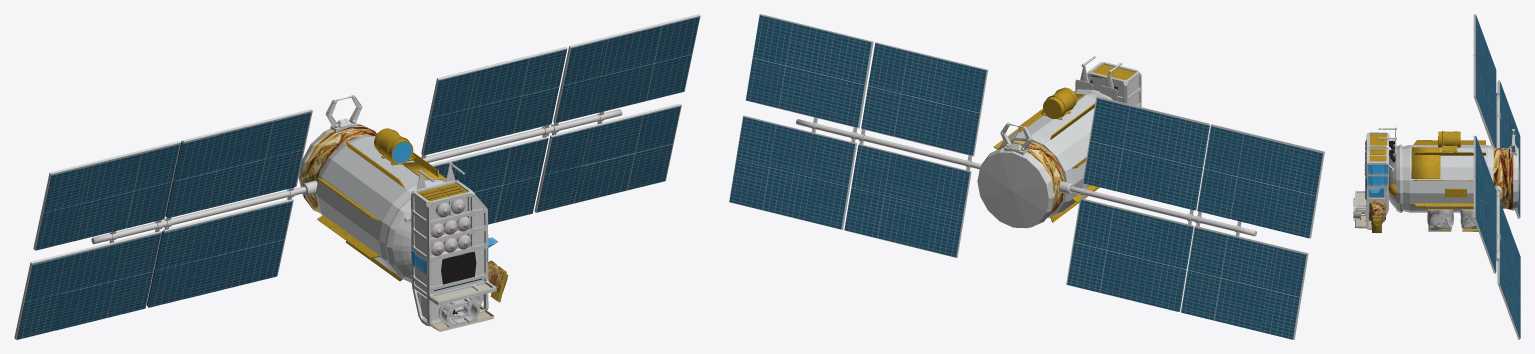
Rendered from satellite.fbx.
3 renders of one model, left to right at view 1: azimuth 30°, elevation 25°; view 2: azimuth 150°, elevation 25°; view 3: azimuth 270°, elevation 25°, orthographic. The views are drawn at different scales.
Parts seen in each view (by area): view 1: Cylinder.013; view 2: Cylinder.013; view 3: Cylinder.013.
Part boxes in pixels (x1=…): Cylinder.013: x1=14, y1=14, x2=700, y2=339; Cylinder.013: x1=729, y1=14, x2=1324, y2=339; Cylinder.013: x1=1353, y1=14, x2=1520, y2=339.
Size of the model in its own units: 1354 by 382 by 472.
